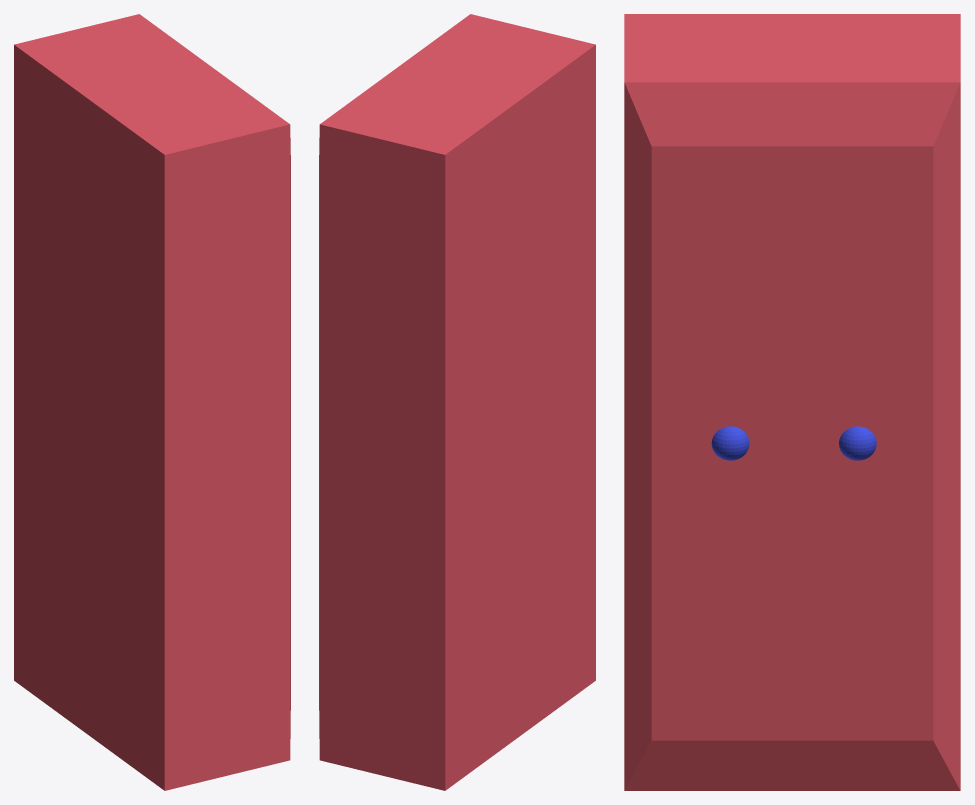
The model's file is Dresser.fbx.
3 renders of one model, left to right at view 1: azimuth 30°, elevation 25°; view 2: azimuth 150°, elevation 25°; view 3: azimuth 270°, elevation 25°, orthographic. The views are drawn at different scales.
Parts seen in each view (by area): view 1: wardrobe; view 2: wardrobe; view 3: wardrobe.
Part boxes in pixels (bbox=[...]): wardrobe: bbox=[14, 14, 290, 790]; wardrobe: bbox=[319, 14, 595, 790]; wardrobe: bbox=[624, 14, 960, 790].
Bounding box in the file's own units: 72.06 × 297 × 128.
